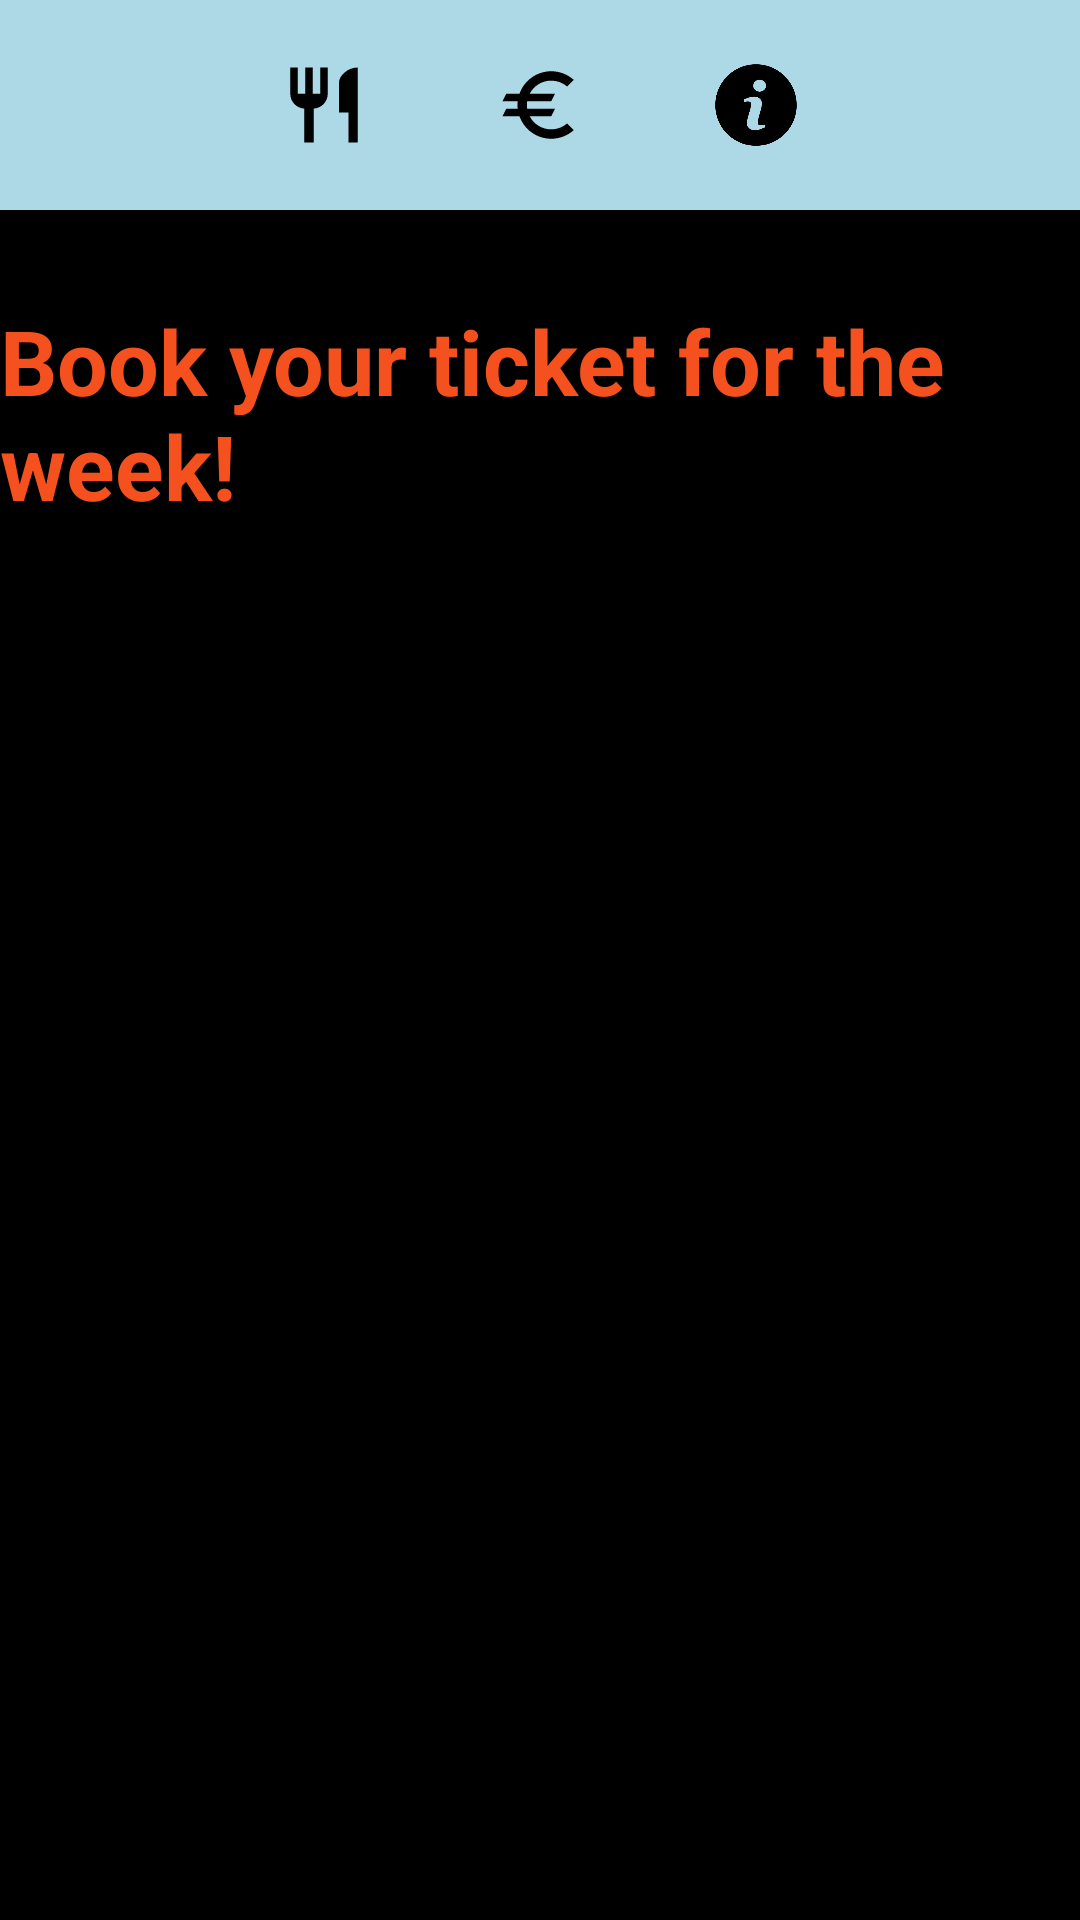

Icon bounding boxes for this 1080 x 1920 phone screenshot, format (x1, y1, x2, y2):
euro: (502, 71, 574, 139)
info: (715, 64, 797, 146)
restaurant: (290, 67, 358, 143)
